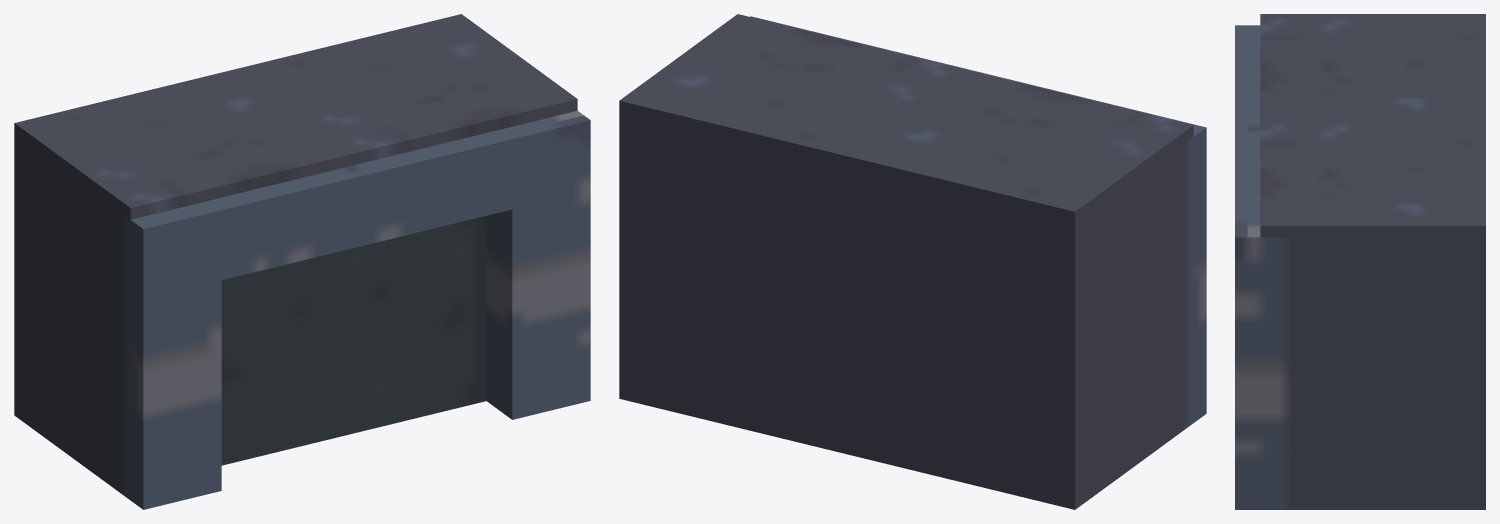
File: BuildingBlock-14.fbx
3 views of the same model, side by side, from view 1: azimuth 30°, elevation 25°; view 2: azimuth 150°, elevation 25°; view 3: azimuth 270°, elevation 25° (orthographic). The views are drawn at different scales.
Parts seen in each view (by area): view 1: BuildingBlock_14; view 2: BuildingBlock_14; view 3: BuildingBlock_14.
Boxes of the visible parts, x1,y1,x2,y2 form: BuildingBlock_14: (14,14,590,509); BuildingBlock_14: (619,14,1206,509); BuildingBlock_14: (1235,14,1485,509).
Bounding box in the file's own units: 400 × 250 × 200.
